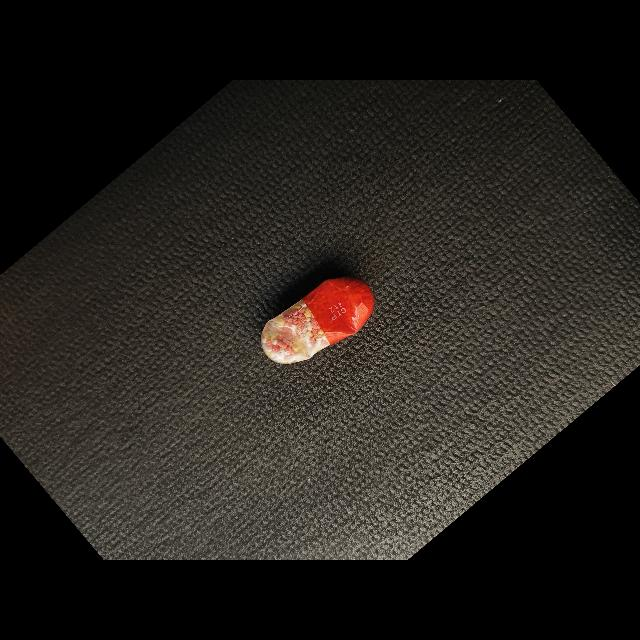Defective Capsule: (261, 277, 375, 364)
